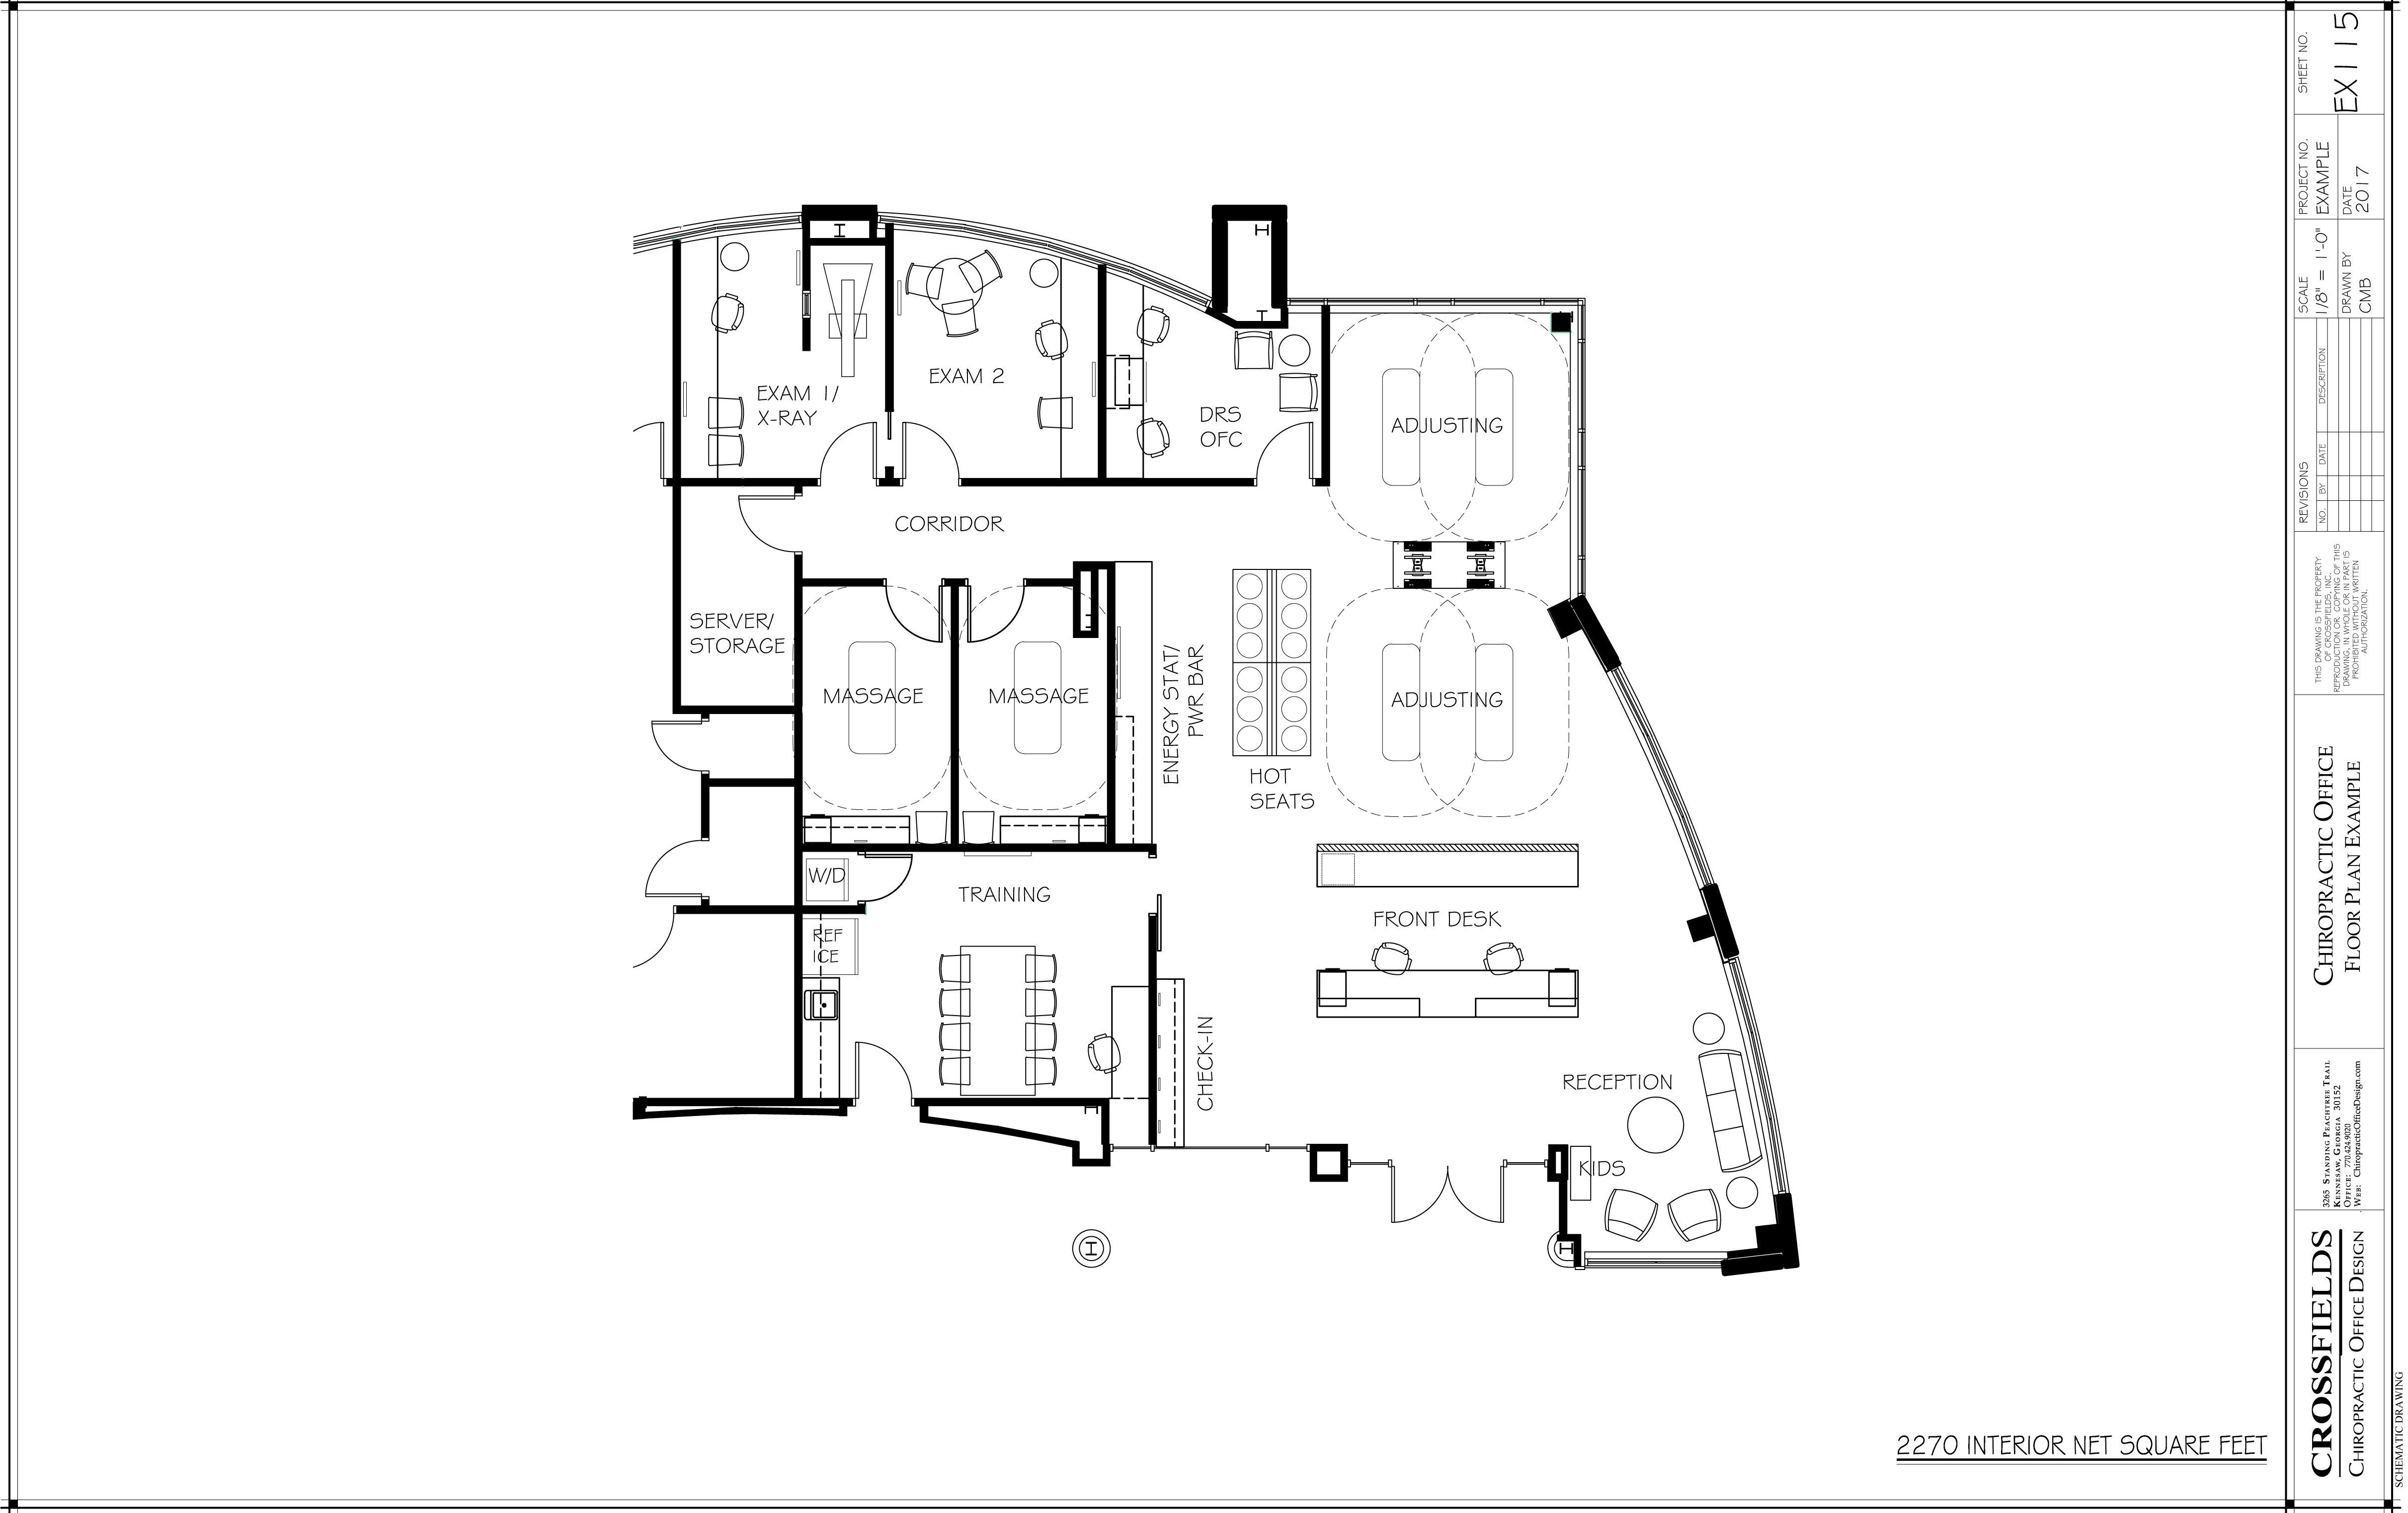door: (1385, 1166, 1512, 1231), (641, 837, 706, 901), (819, 417, 880, 483), (899, 418, 960, 485), (739, 492, 800, 556), (1255, 420, 1316, 485), (849, 1037, 913, 1096), (650, 718, 713, 774), (861, 852, 920, 905)
